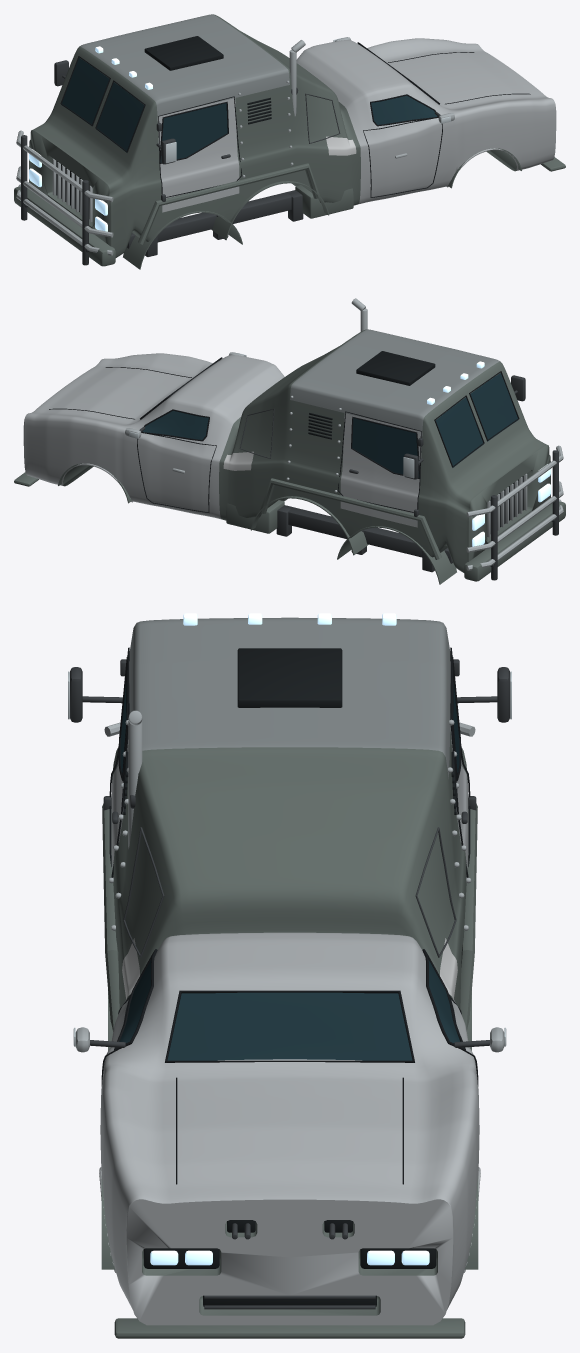
File: blackjack_refined.glb
3 views of the same model, one above another, from view 1: azimuth 30°, elevation 25°; view 2: azimuth 150°, elevation 25°; view 3: azimuth 270°, elevation 25° (orthographic). The views are drawn at different scales.
Parts seen in each view (by area): view 1: Body_TracedShell.001, Glass_ArmoredSide_1.001, Chassis_RuggedRail_1.001, Glass_ArmoredWindshield_1.001, Glass_ArmoredWindshield_-1.001, Armor_RuggedBumper.001, Grille_RuggedRoofVent.001, Armor_BogieFender_1.001, Glass_InterceptorSide_1.001, Armor_CenterEquipment_1.001, InnerFender_Liner_1_-0.001, InnerFender_Liner_1_-0.002 (+10 smaller); view 2: Body_TracedShell.001, Glass_ArmoredSide_-1.001, Chassis_RuggedRail_-1.001, Glass_ArmoredWindshield_-1.001, Glass_ArmoredWindshield_1.001, Armor_RuggedBumper.001, Grille_RuggedRoofVent.001, Armor_BogieFender_-1.001, Glass_InterceptorSide_-1.001, Armor_CenterEquipment_-1.001, InnerFender_Liner_-1_-0.001, InnerFender_Liner_-1_-0.002 (+9 smaller); view 3: Body_TracedShell.001, Glass_InterceptorWindshield.001, Grille_RuggedRoofVent.001, Armor_InterceptorAirDam.001, Armor_BogieFender_1.001, Armor_BogieFender_-1.001, Rubber_InterceptorWindshieldSeal.001, Grille_InterceptorBacking.001, Exhaust_Stack.001, Glass_InterceptorSide_1.001, Glass_InterceptorSide_-1.001.
Boxes of the visible parts, x1,y1,x2,y2 form: Body_TracedShell.001: (29, 14, 556, 257); Glass_ArmoredSide_1.001: (160, 103, 227, 162); Chassis_RuggedRail_1.001: (127, 190, 296, 248); Glass_ArmoredWindshield_1.001: (96, 82, 143, 152); Glass_ArmoredWindshield_-1.001: (61, 58, 109, 126); Armor_RuggedBumper.001: (14, 186, 115, 266); Grille_RuggedRoofVent.001: (144, 36, 223, 70); Armor_BogieFender_1.001: (138, 163, 319, 244); Glass_InterceptorSide_1.001: (371, 95, 437, 124); Armor_CenterEquipment_1.001: (295, 185, 353, 218); InnerFender_Liner_1_-0.001: (123, 211, 242, 269); InnerFender_Liner_1_-0.002: (211, 181, 329, 240); Body_TracedShell.001: (23, 329, 550, 572); Glass_ArmoredSide_-1.001: (352, 418, 419, 477); Chassis_RuggedRail_-1.001: (283, 505, 452, 563); Glass_ArmoredWindshield_-1.001: (436, 397, 483, 467); Glass_ArmoredWindshield_1.001: (470, 373, 517, 441); Armor_RuggedBumper.001: (464, 501, 565, 581); Grille_RuggedRoofVent.001: (356, 351, 435, 385); Armor_BogieFender_-1.001: (260, 478, 441, 559); Glass_InterceptorSide_-1.001: (142, 410, 208, 439); Armor_CenterEquipment_-1.001: (226, 500, 284, 533); InnerFender_Liner_-1_-0.001: (337, 526, 456, 584); InnerFender_Liner_-1_-0.002: (250, 496, 368, 555); Body_TracedShell.001: (100, 617, 479, 1325); Glass_InterceptorWindshield.001: (166, 992, 413, 1062); Grille_RuggedRoofVent.001: (237, 648, 342, 707); Armor_InterceptorAirDam.001: (114, 1318, 465, 1338); Armor_BogieFender_1.001: (102, 803, 119, 1031); Armor_BogieFender_-1.001: (460, 803, 477, 1031); Rubber_InterceptorWindshieldSeal.001: (165, 990, 414, 1062); Grille_InterceptorBacking.001: (203, 1295, 376, 1306); Exhaust_Stack.001: (128, 720, 142, 848); Glass_InterceptorSide_1.001: (119, 960, 151, 1042); Glass_InterceptorSide_-1.001: (428, 960, 460, 1042).
Size of the model in its own units: 2.19 by 0.8354 by 0.894.
